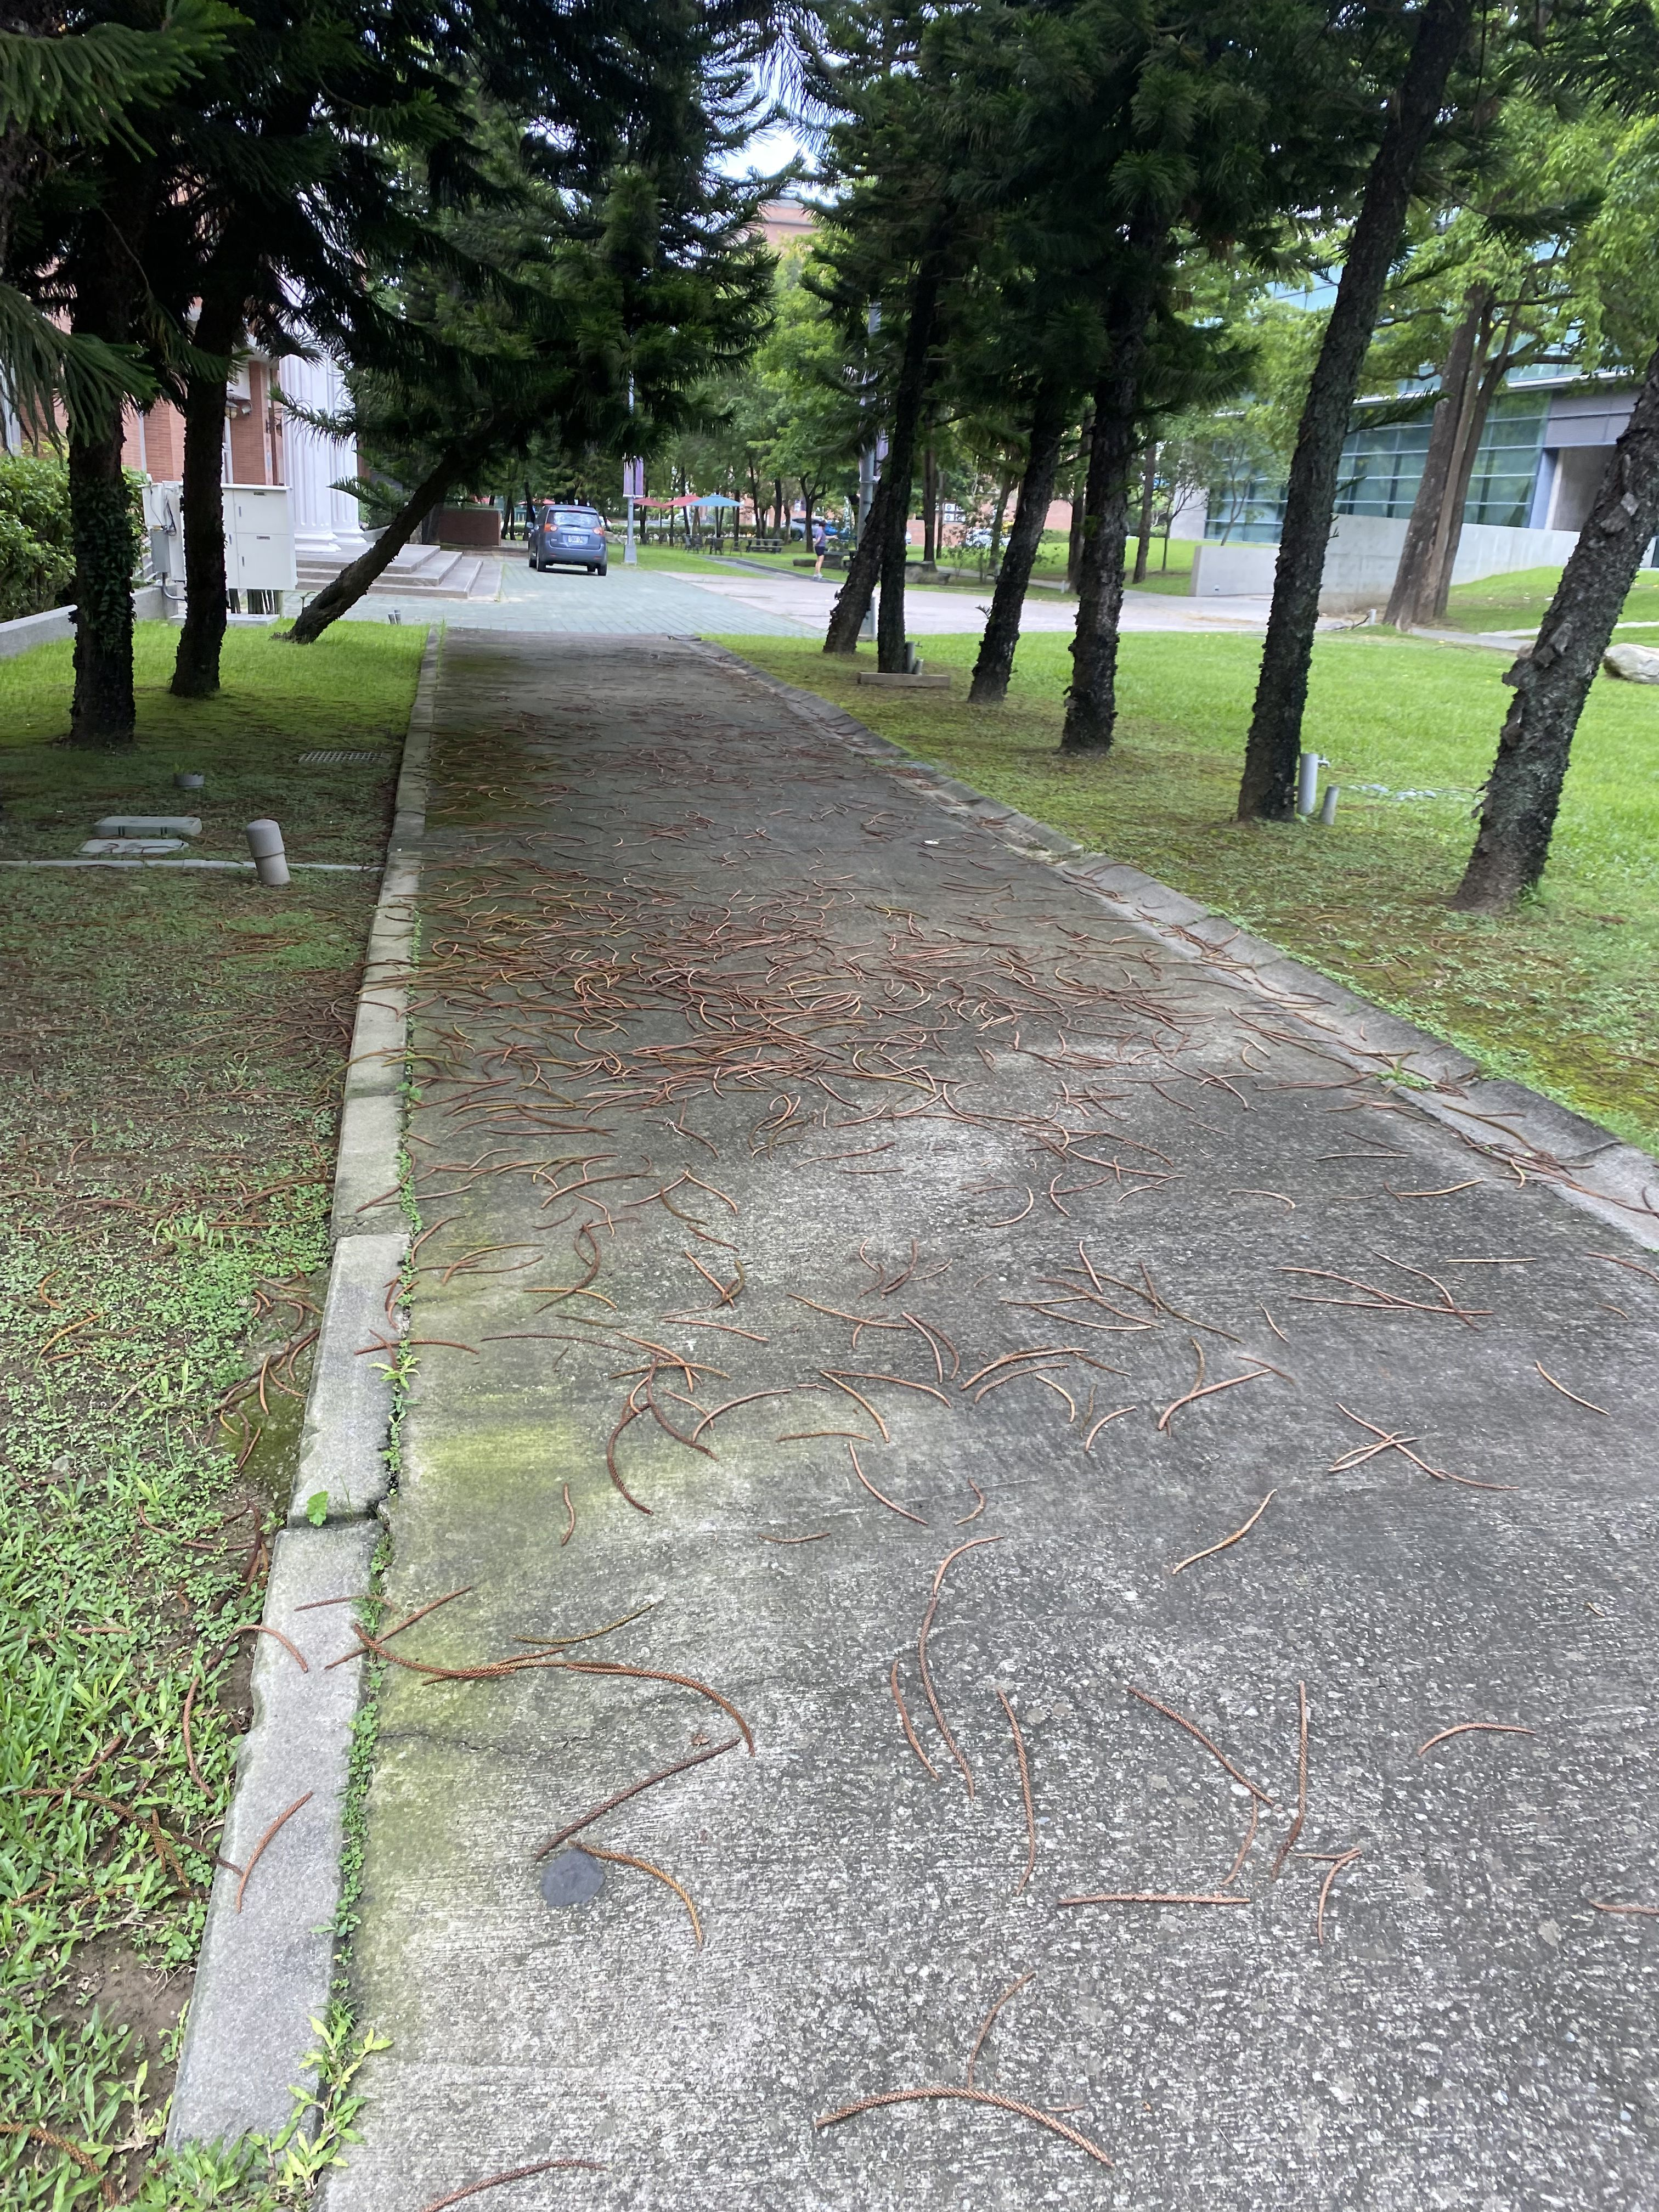sidewalk: (160, 611, 1659, 2212)
